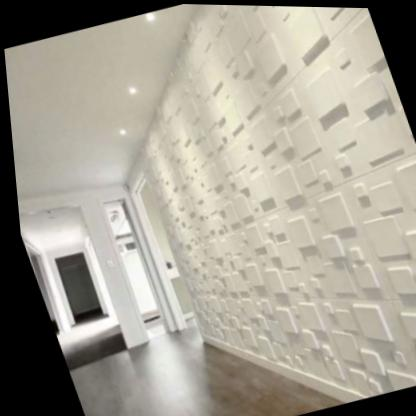Futech tiles: (156, 5, 416, 302)
